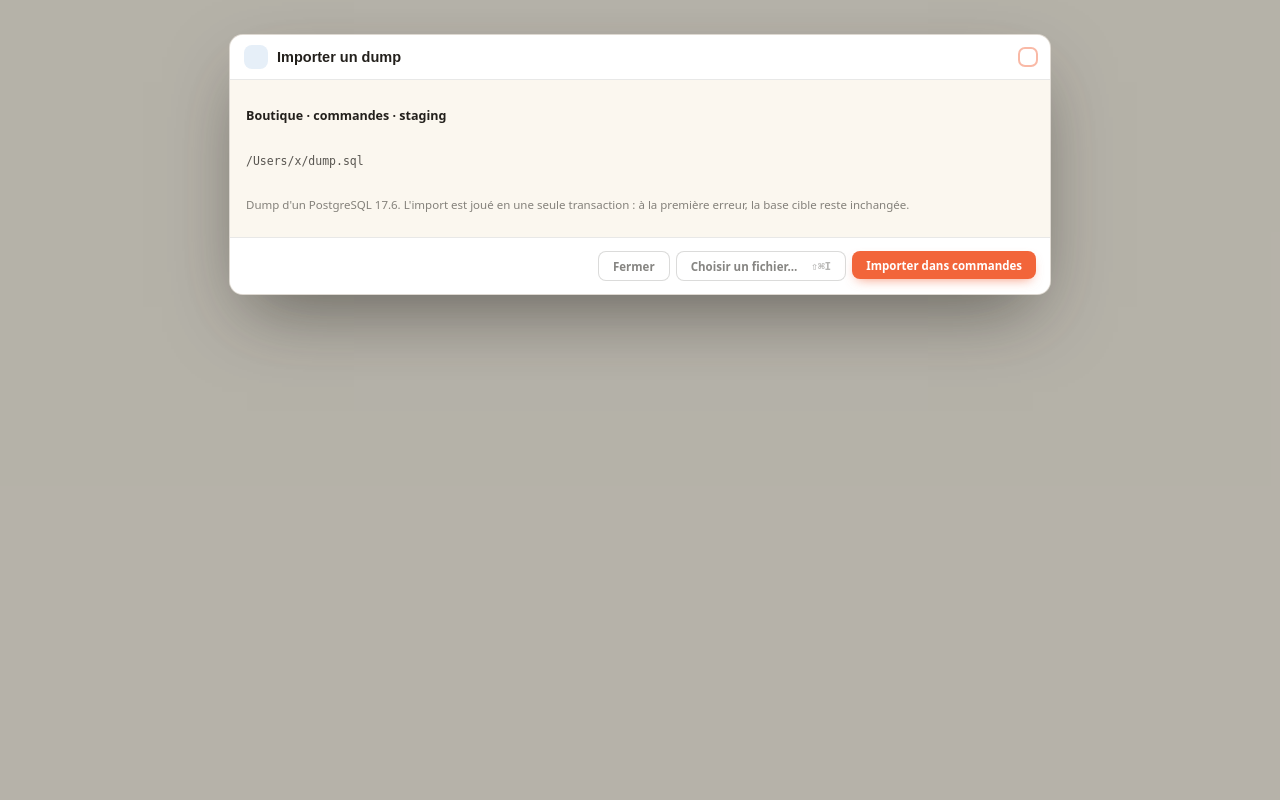
l’import échoué rend le message de psql tel quel
Click the button "Importer dans commandes".
click(944, 265)  # box [852,251,1036,279]
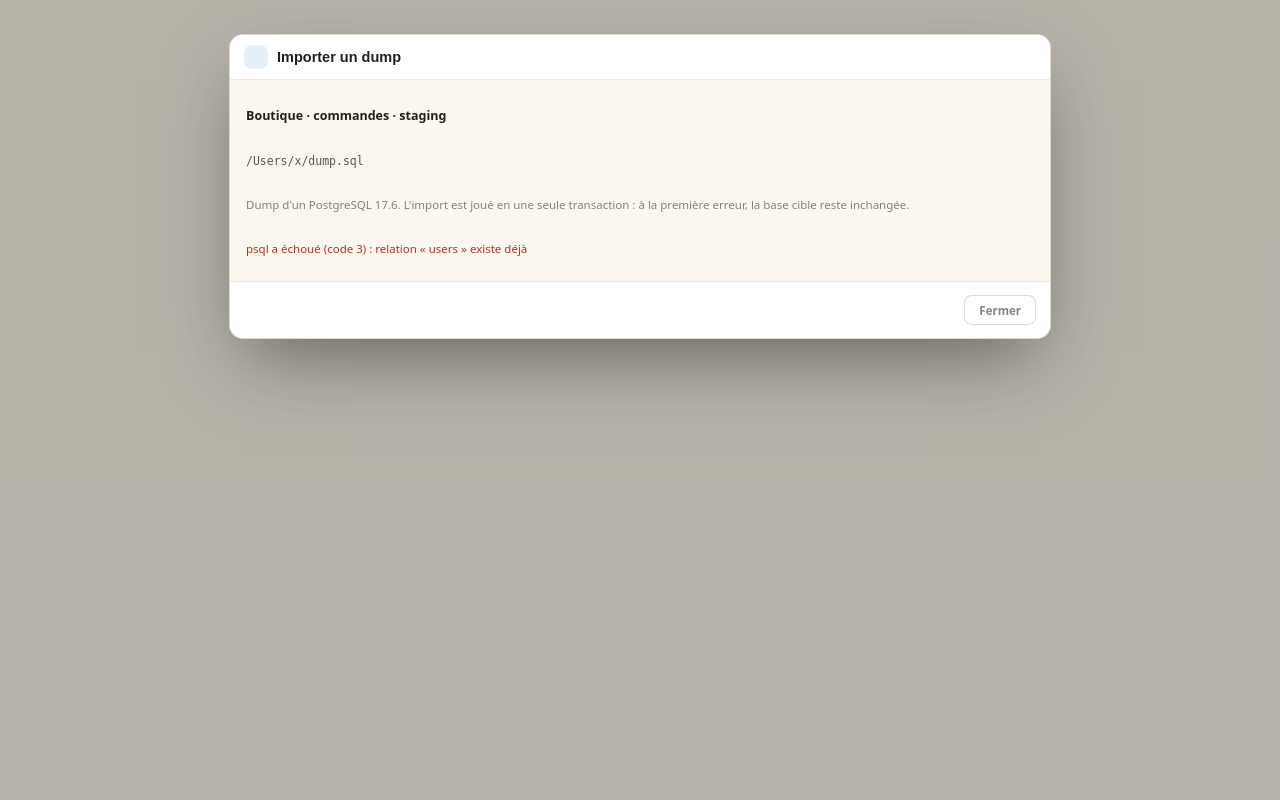
Expected: the text "psql a échoué (code 3) : relation « users » existe déjà" is shown, [246,240,527,256]
